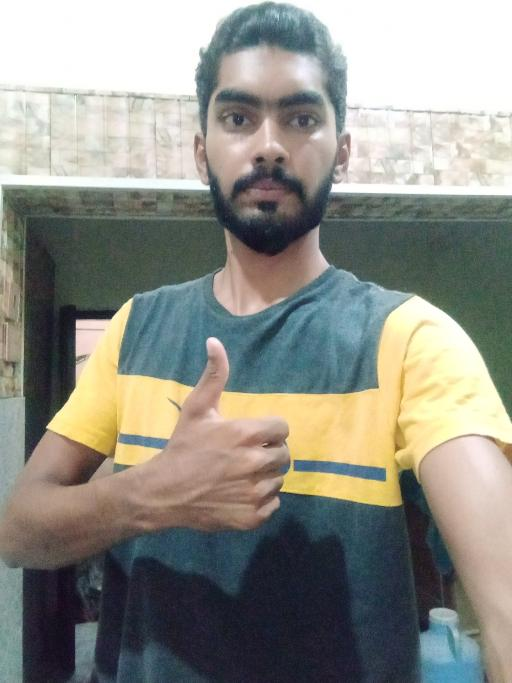like: (153, 334, 292, 535)
